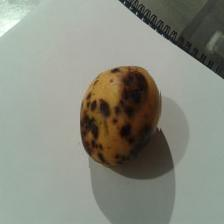Mango Rotten: (81, 57, 161, 168)
